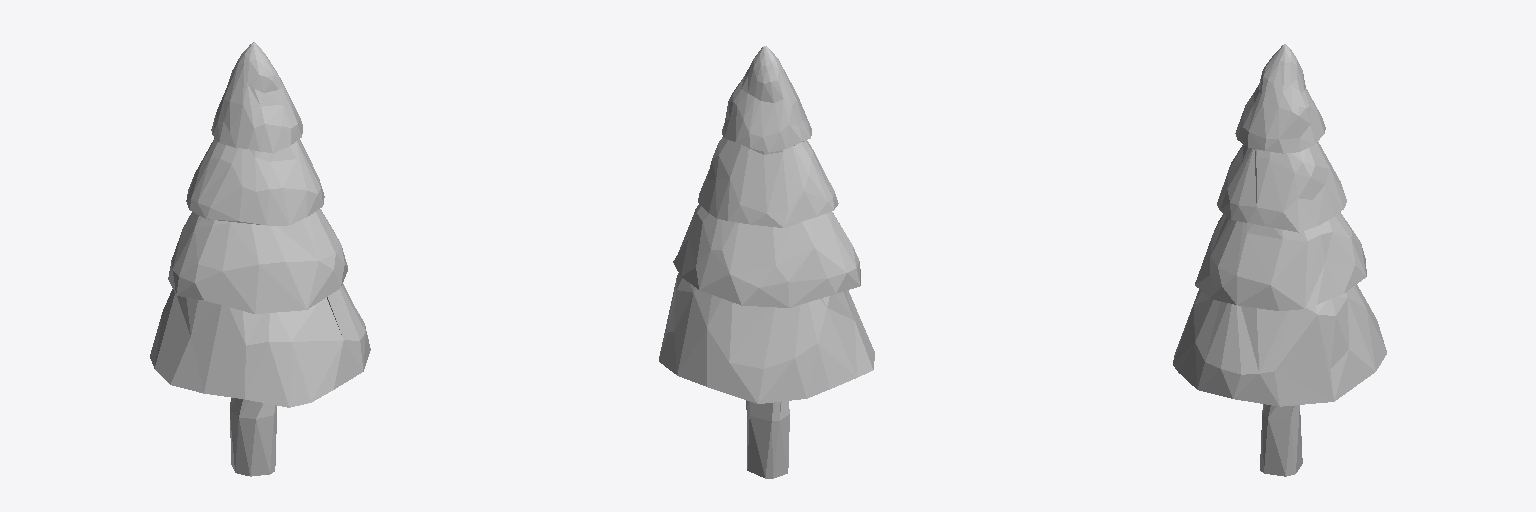
File: Pine3.obj
3 views of the same model, side by side, from view 1: azimuth 30°, elevation 25°; view 2: azimuth 150°, elevation 25°; view 3: azimuth 270°, elevation 25° (orthographic).
Parts seen in each view (by area): view 1: Cube.002_Cube.004; view 2: Cube.002_Cube.004; view 3: Cube.002_Cube.004.
Boxes of the visible parts, box(x1,y1,x2,y2) form: Cube.002_Cube.004: box(150, 42, 370, 476); Cube.002_Cube.004: box(659, 46, 874, 478); Cube.002_Cube.004: box(1173, 44, 1386, 476).
Bounding box in the file's own units: 7.28 × 15.45 × 7.09.